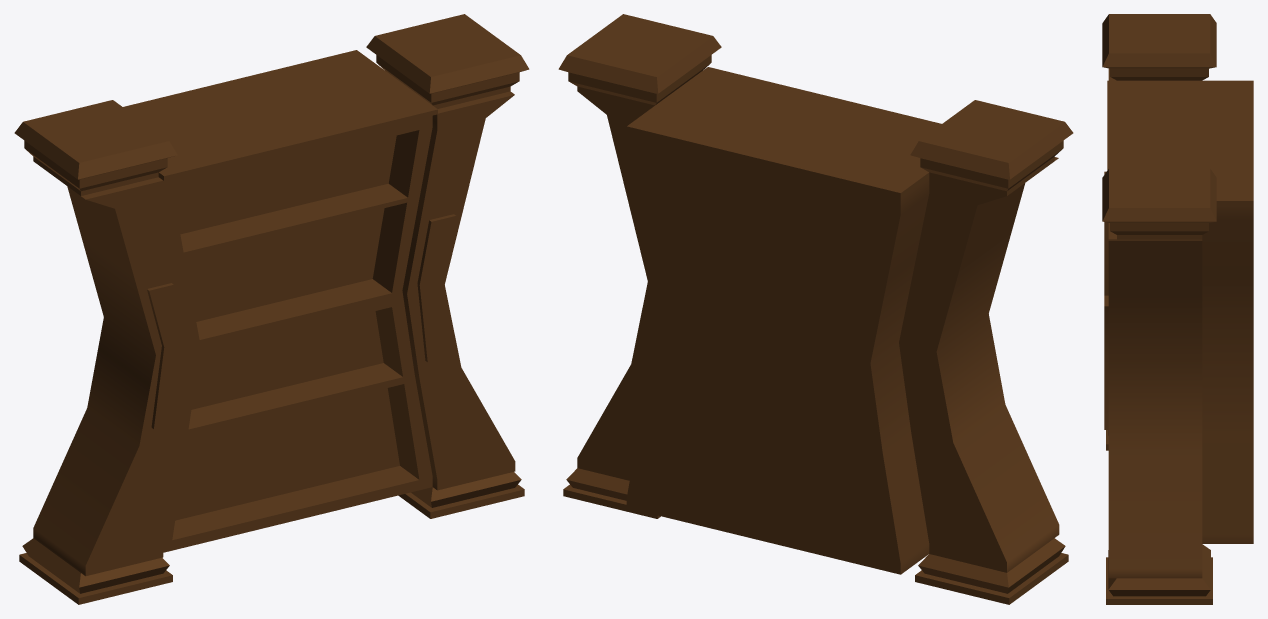
File: SM_Book Shelf_2.fbx
3 renders of one model, left to right at view 1: azimuth 30°, elevation 25°; view 2: azimuth 150°, elevation 25°; view 3: azimuth 270°, elevation 25°, orthographic. The views are drawn at different scales.
Visible parts, largest first — view 1: Book_Shelf_1; view 2: Book_Shelf_1; view 3: Book_Shelf_1.
Boxes of the visible parts, left/top/right/bottom form: Book_Shelf_1: left=14, top=14, right=529, bottom=604; Book_Shelf_1: left=558, top=14, right=1073, bottom=604; Book_Shelf_1: left=1102, top=14, right=1253, bottom=604.
Size of the model in its own units: 3.65 by 3.4 by 1.18.
